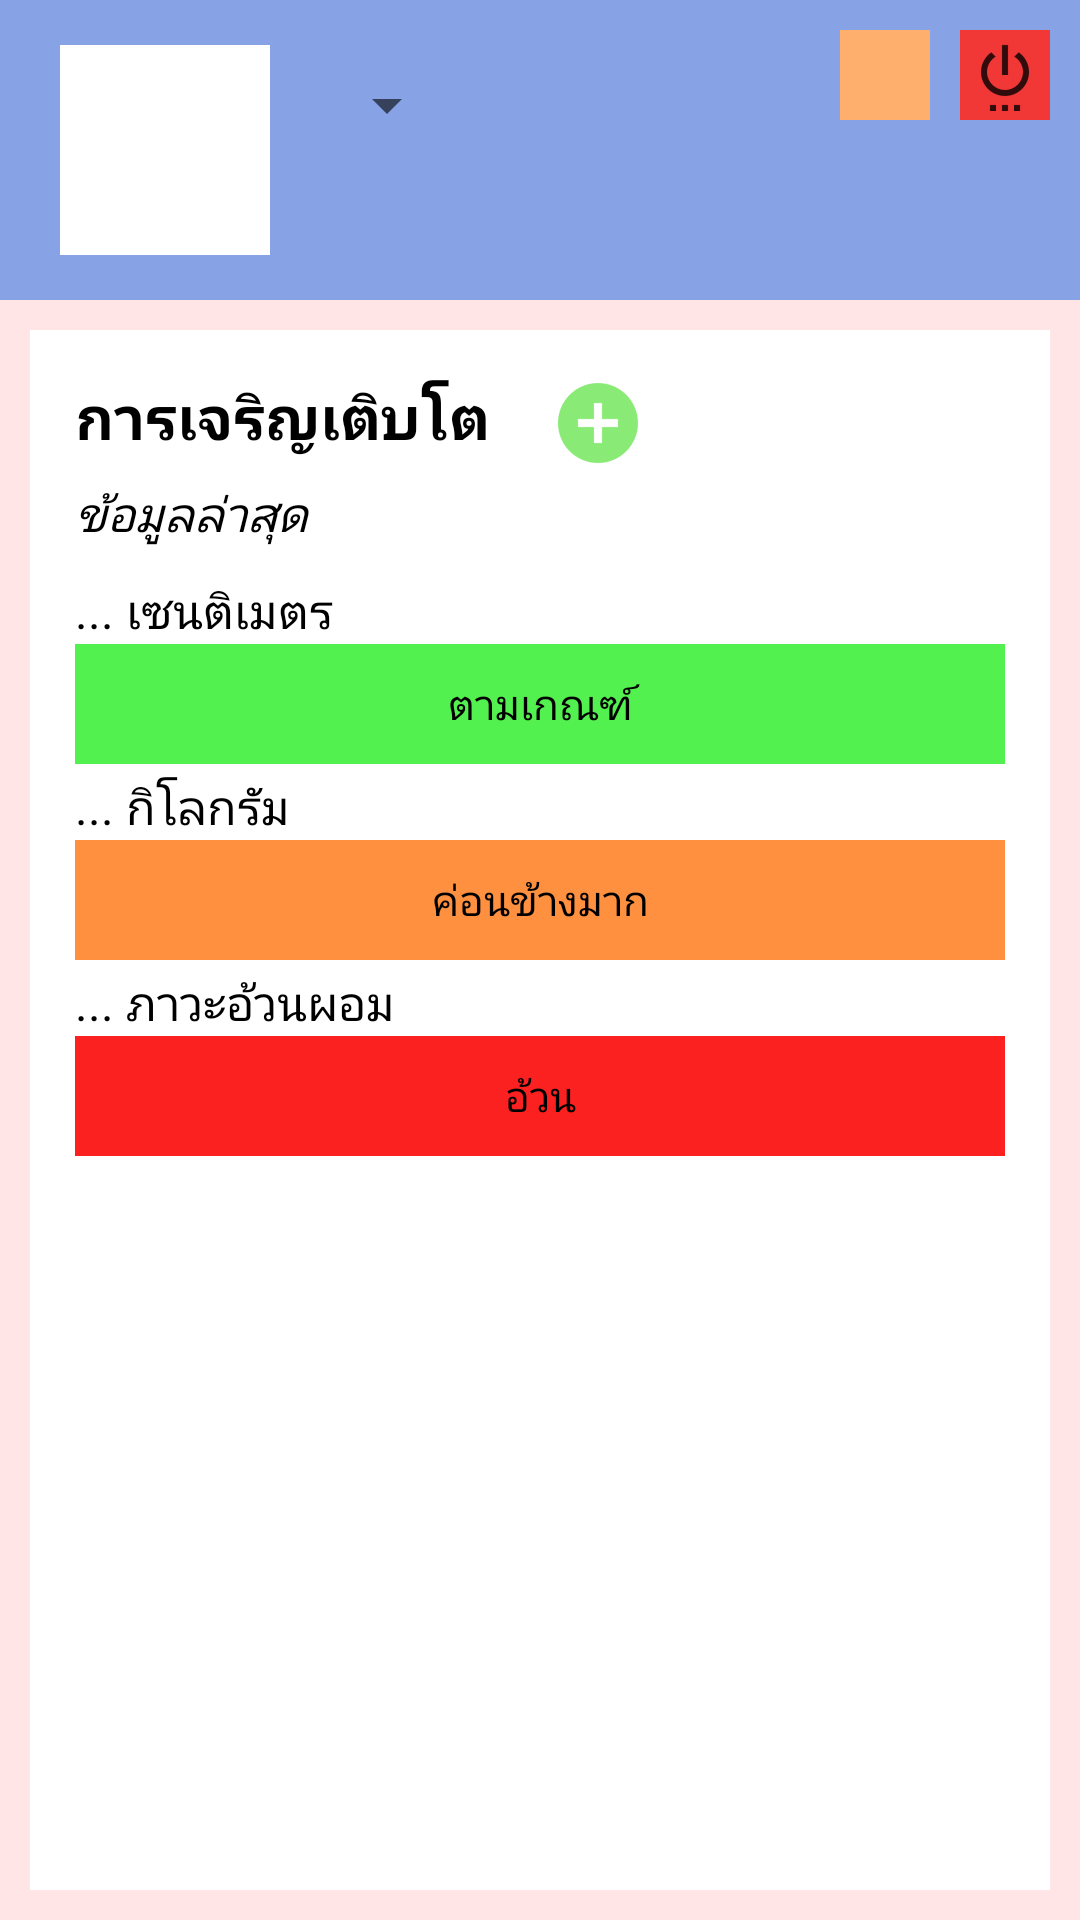

Screen size 1080*1920. Icon name, then its box in pixels as (left=x1, top=y1, right=x2, bottom=y2):
add: (left=558, top=383, right=638, bottom=463)
